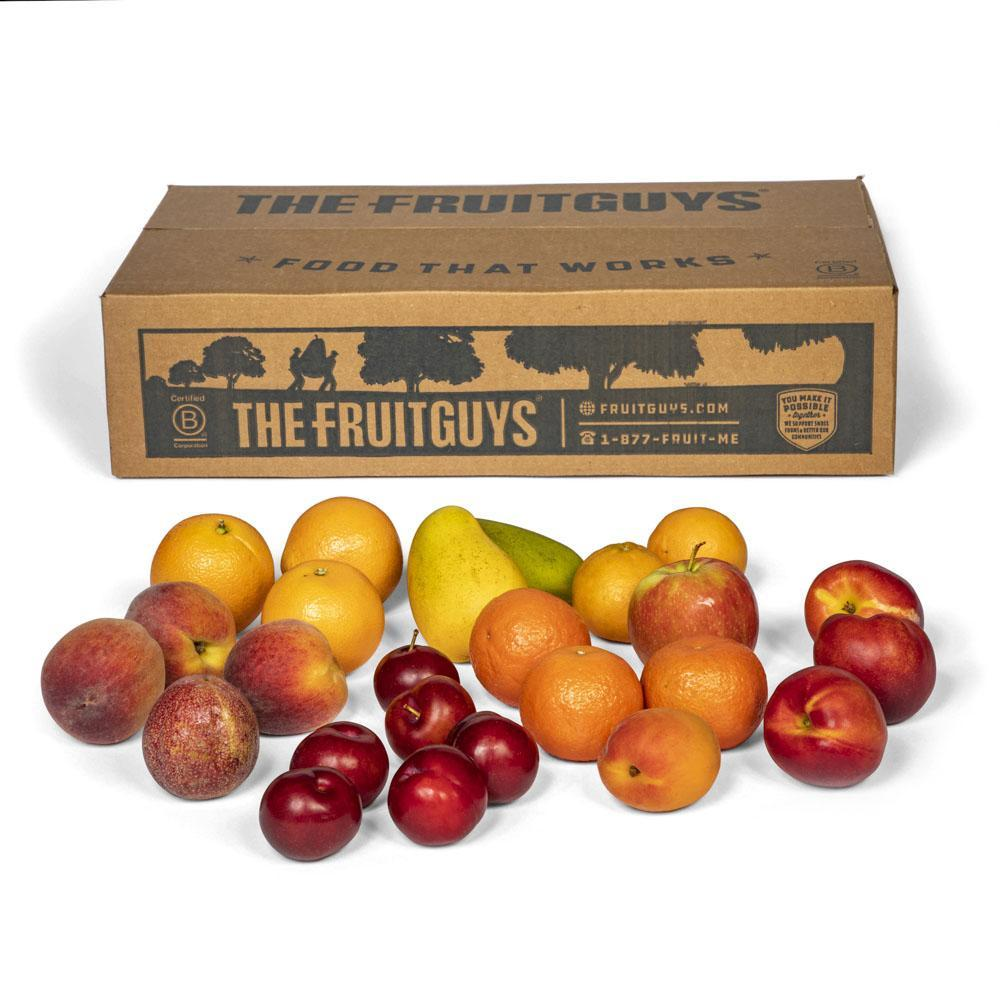apple: (42, 606, 172, 744), (761, 664, 886, 790), (138, 676, 261, 800), (626, 558, 759, 667), (817, 610, 939, 725), (803, 563, 922, 647)
